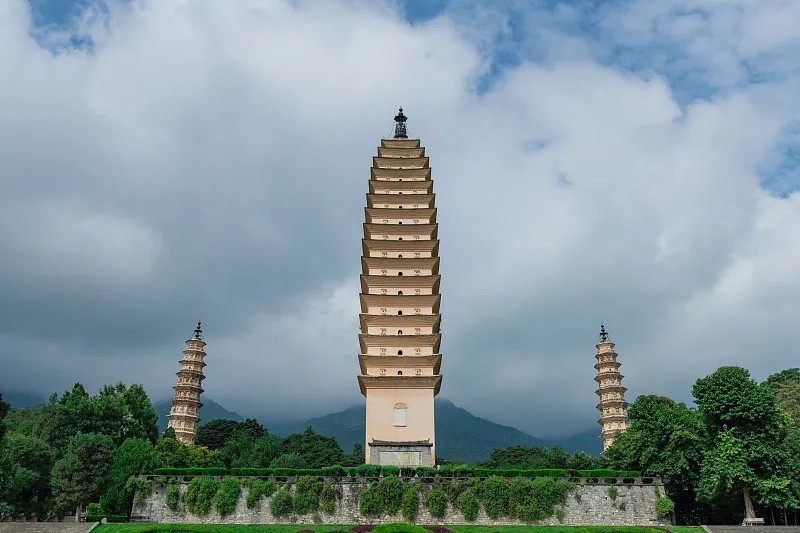ThreePagoda: (357, 106, 442, 466)
